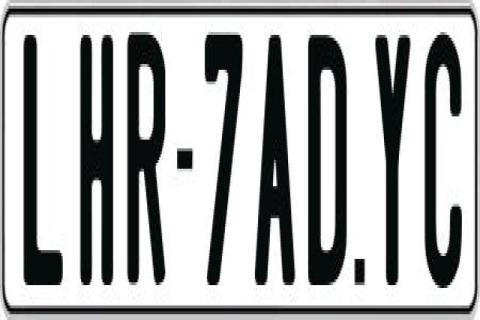0: (205, 32, 247, 291)
A: (255, 29, 298, 294)
C: (421, 26, 460, 288)
D: (308, 26, 351, 282)
H: (77, 29, 115, 282)
L: (20, 35, 62, 291)
R: (128, 24, 171, 282)
Y: (372, 29, 412, 282)
